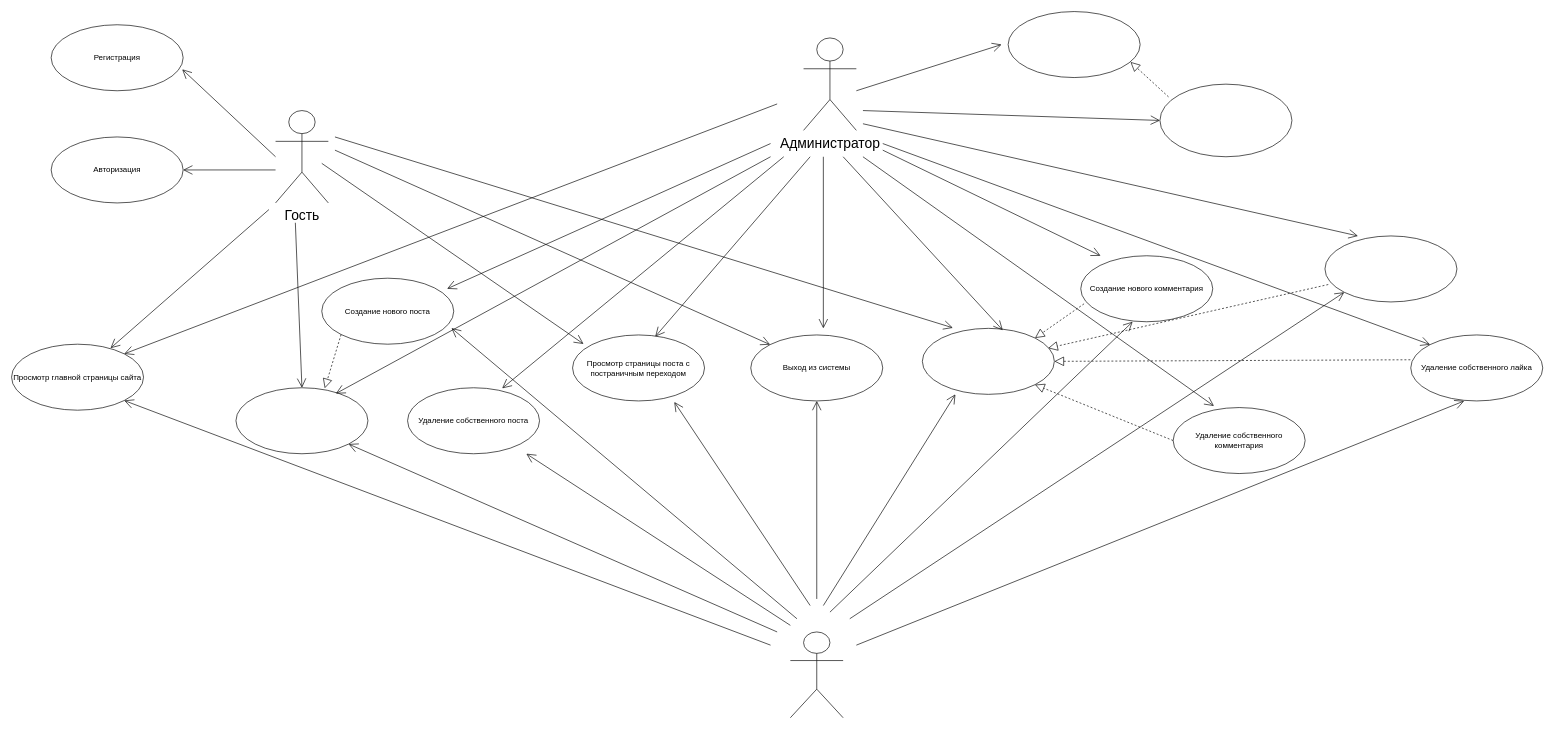
Image size: 1554x750. Some labels were removed from this diagram. The shapes that lost their labels are listed below. From the top down, each one's centre as x and y in pixels, then its label:
At (x=1073, y=44): "Просмотр списка всех пользователей".
At (x=1225, y=120): "Блокирование / Разблокирование пользователей".
At (x=1390, y=268): "Создание лайка".
At (x=988, y=361): "Просмотр страницы фото".
At (x=301, y=420): "Просмотр страницы всех постов с различной сортировкой и постраничным переходом".
At (x=816, y=674): "Клиент".
